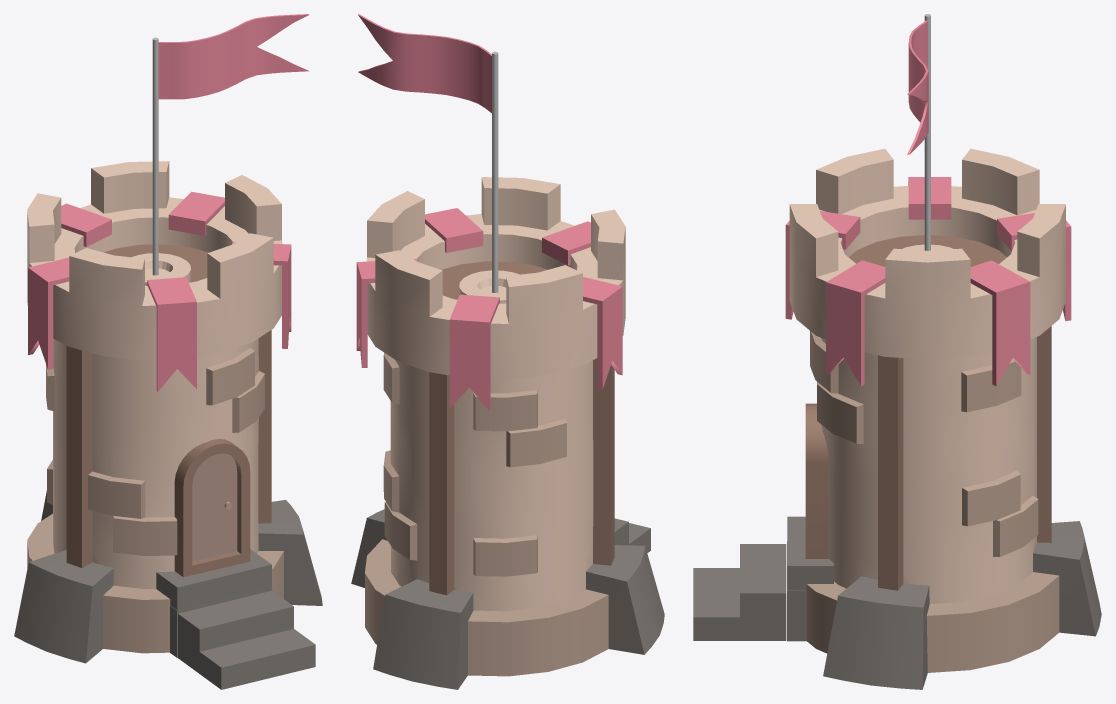
Rendered from Tower.fbx.
The picture shows the model from 3 angles, left to right: view 1: azimuth 30°, elevation 25°; view 2: azimuth 150°, elevation 25°; view 3: azimuth 270°, elevation 25°; orthographic projection. The views are drawn at different scales.
Parts seen in each view (by area): view 1: Tower; view 2: Tower; view 3: Tower.
Part boxes in pixels (x1,y1,x2,y2): Tower: (14, 14, 322, 689); Tower: (351, 14, 664, 689); Tower: (693, 14, 1101, 689).
Size of the model in its own units: 46.55 by 86.28 by 53.3.
